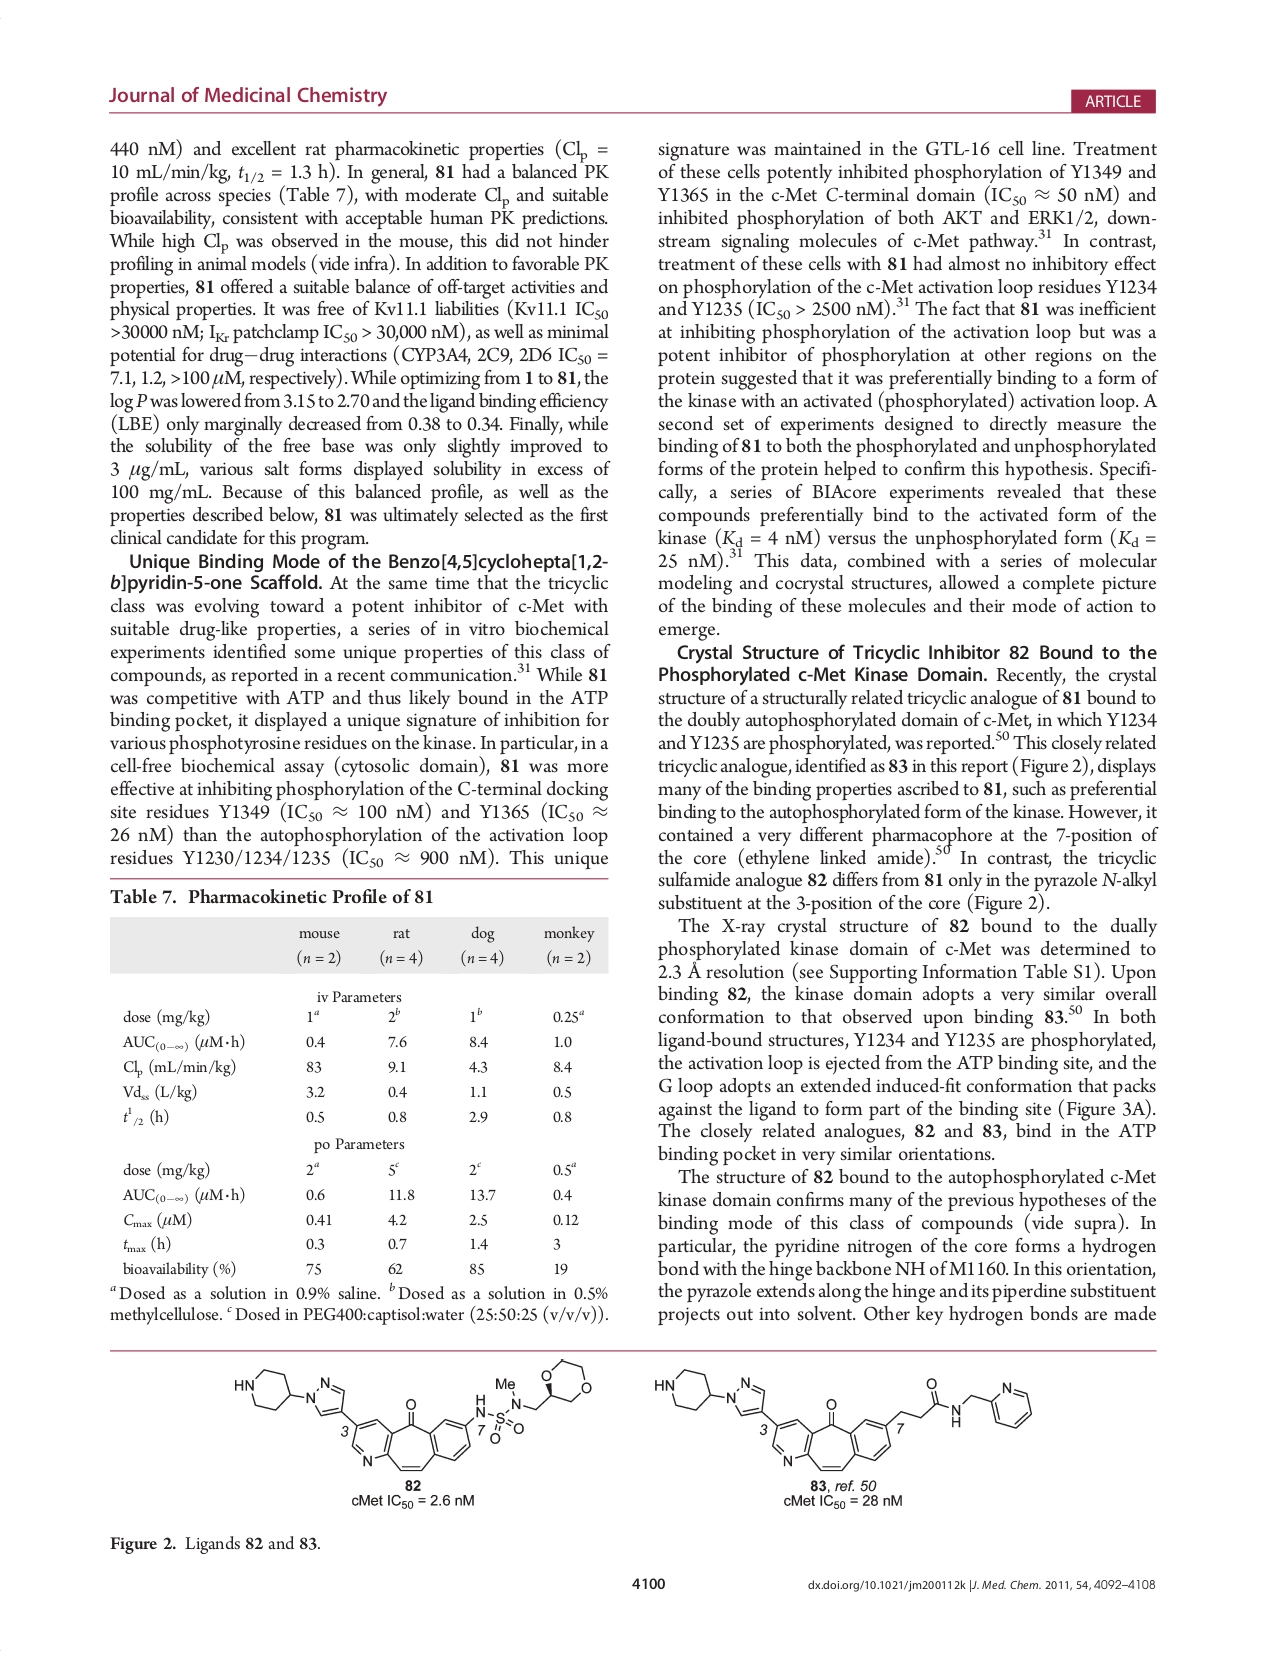exist_molecular: (650, 1362, 1035, 1476), (233, 1356, 593, 1476)
